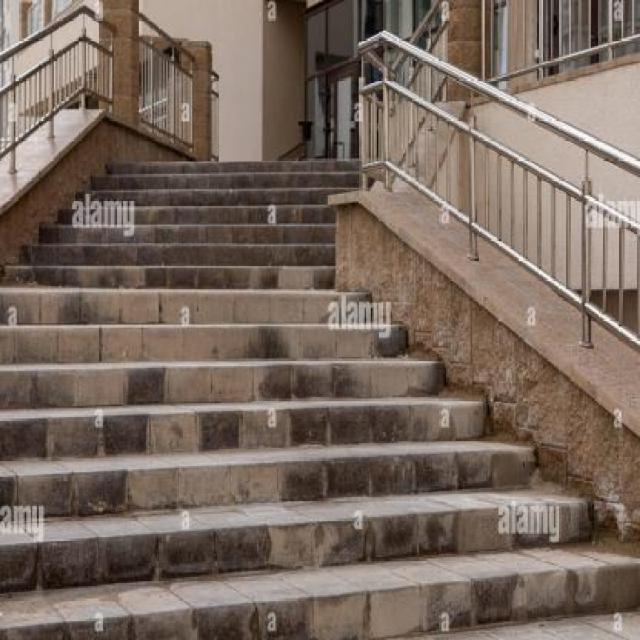stair: (0, 78, 416, 638)
